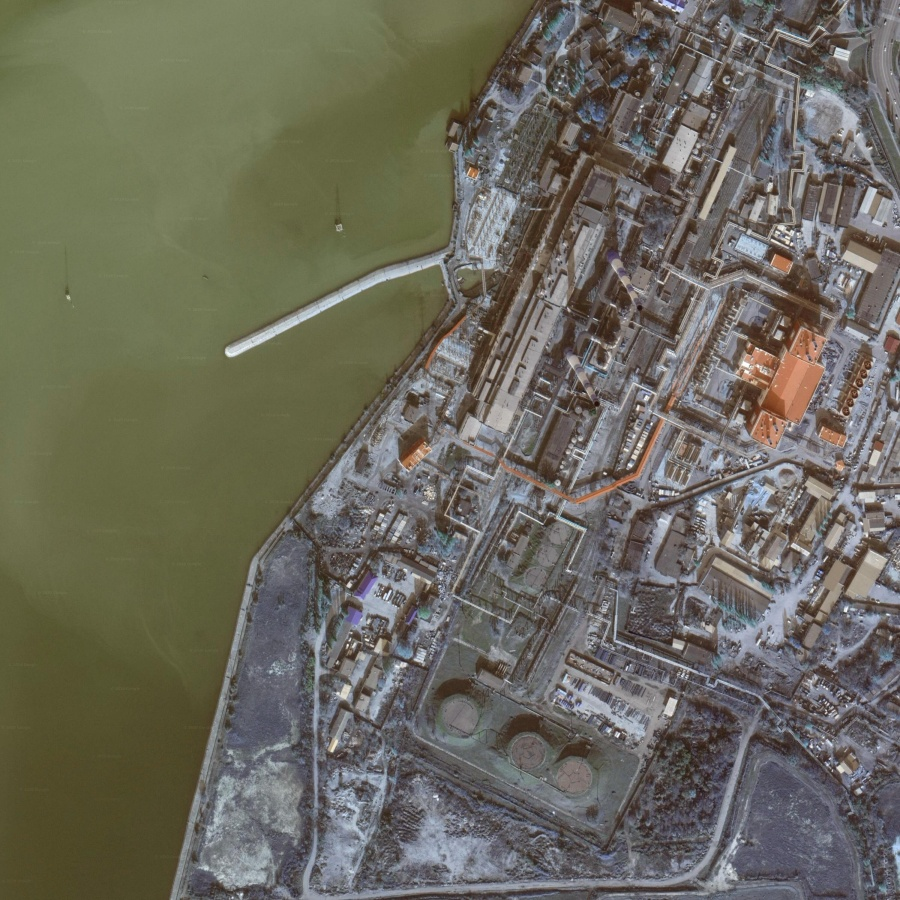PowerPlant: (430, 100, 704, 509), (423, 514, 609, 808)
